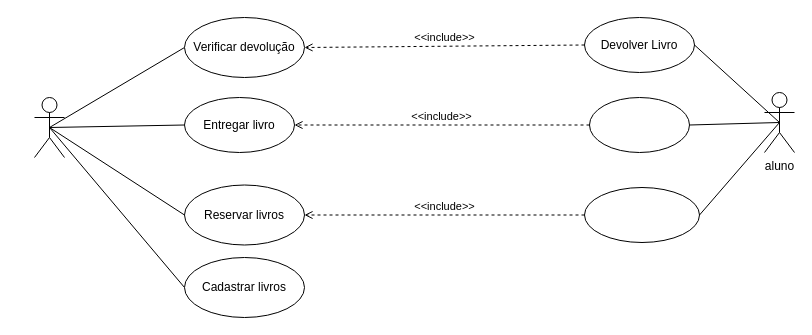
Image size: 812x335. Some labels were removed from this diagram. Each missing label, with the box of its shape:
bibliotecária: (34, 96, 64, 158)
Emprestar: (588, 96, 690, 152)
Fazer reserva: (584, 186, 700, 242)
